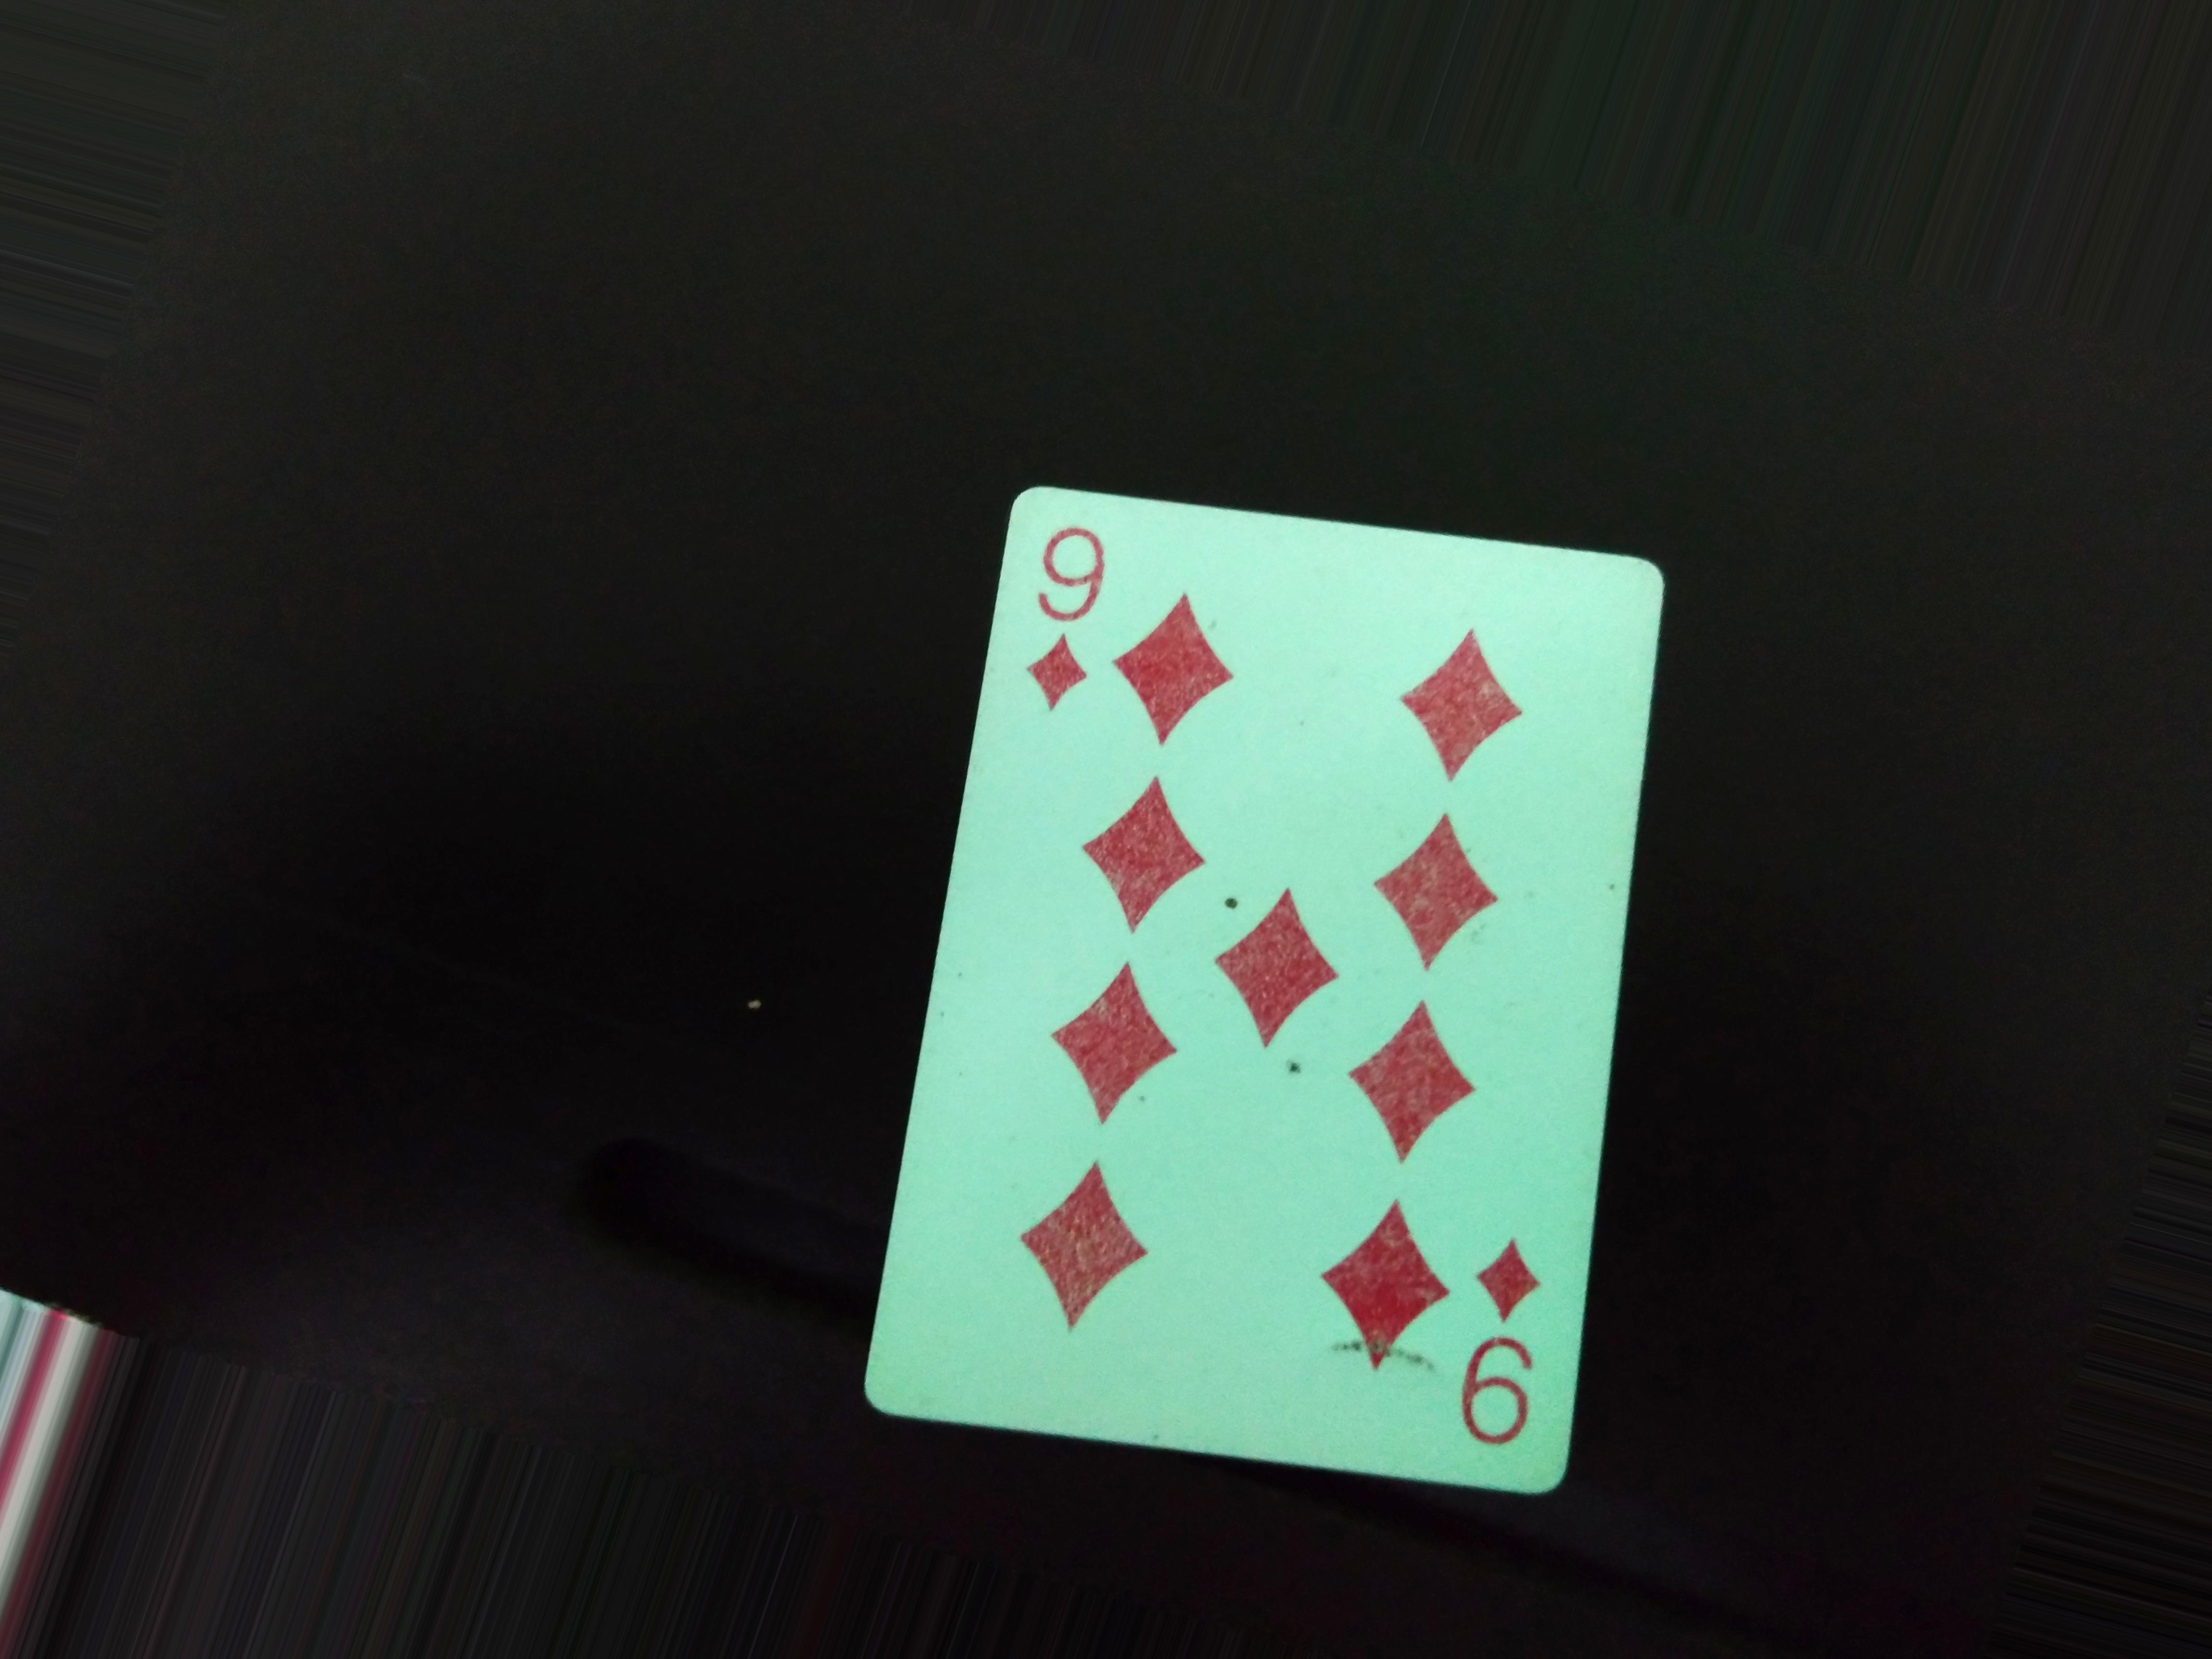9D: (1022, 498, 1108, 741)
